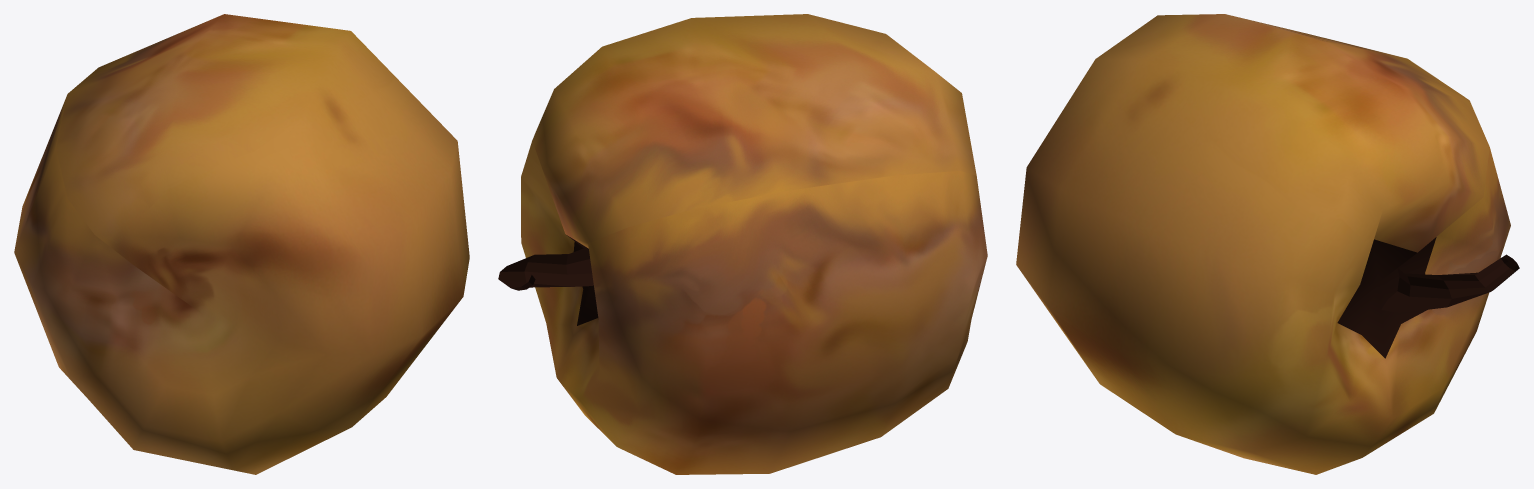
File: fruit_LO_1.fbx
3 renders of one model, left to right at view 1: azimuth 30°, elevation 25°; view 2: azimuth 150°, elevation 25°; view 3: azimuth 270°, elevation 25°, orthographic. The views are drawn at different scales.
Parts seen in each view (by area): view 1: Pumpkin.006; view 2: Pumpkin.006; view 3: Pumpkin.006.
Part boxes in pixels (x1,y1,x2,y2): Pumpkin.006: (14, 14, 469, 474); Pumpkin.006: (498, 14, 987, 474); Pumpkin.006: (1016, 14, 1519, 474).
Bounding box in the file's own units: 6.42 × 5.66 × 6.55.
1 material, 1 textured.
